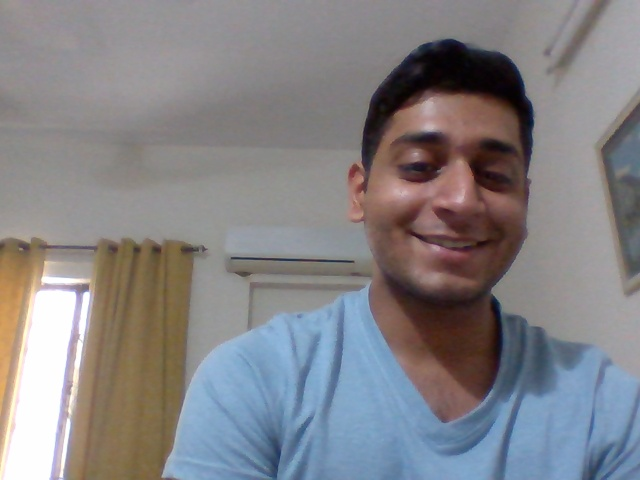happy: (384, 75, 523, 323)
